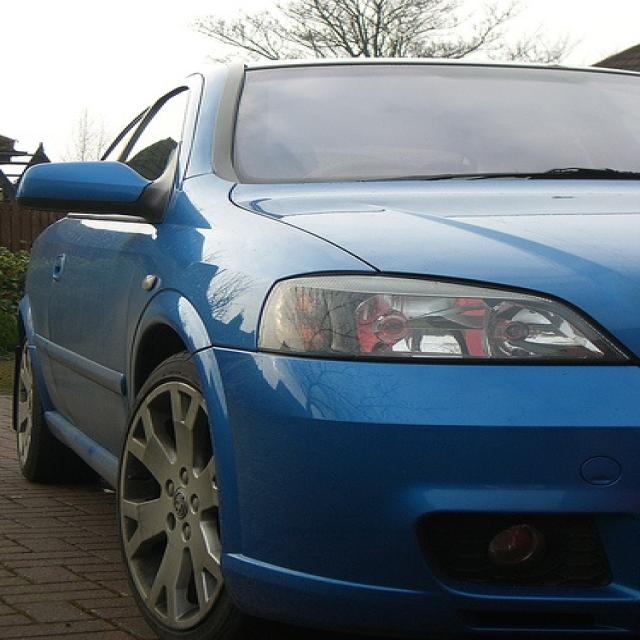car: (2, 54, 638, 638)
